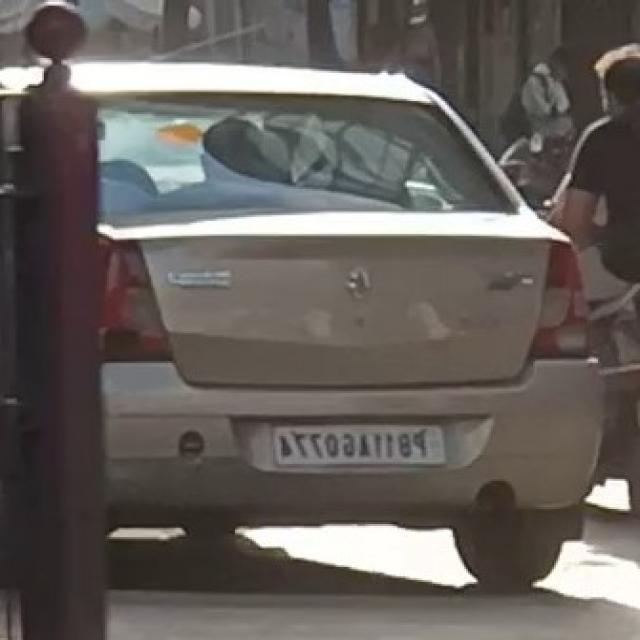license_plate: (260, 416, 451, 473)
